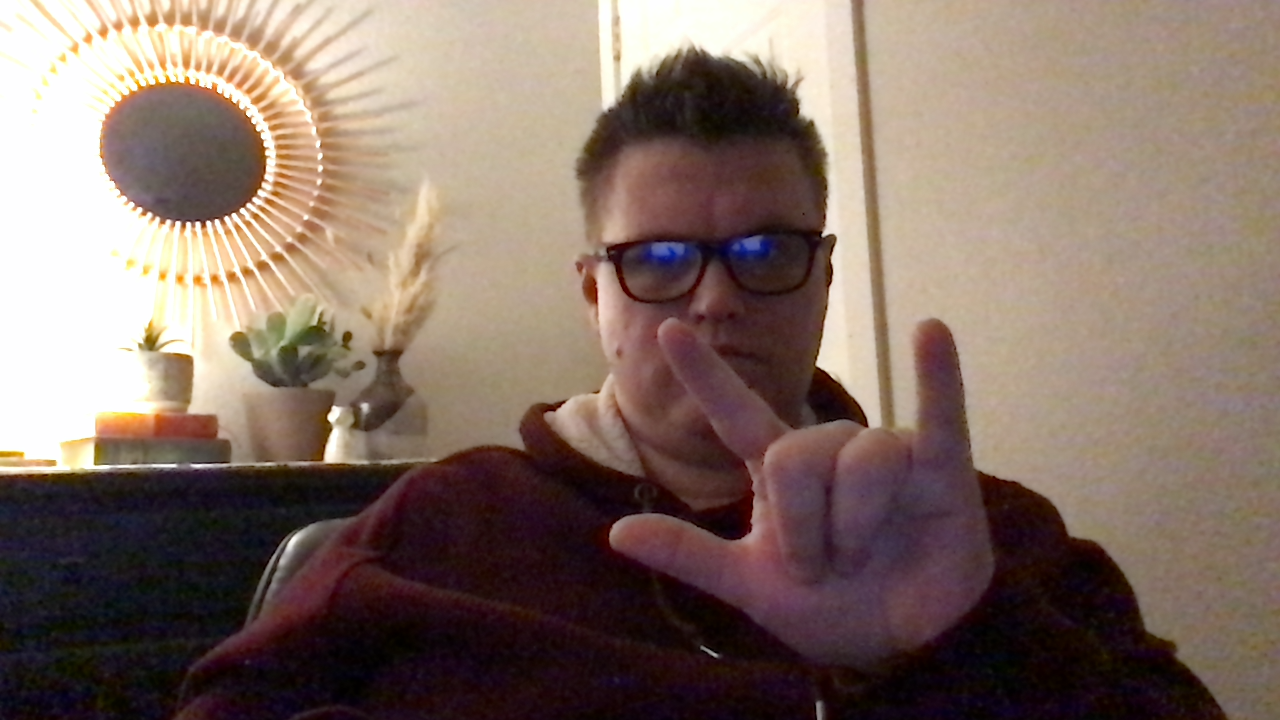iloveyou: (603, 309, 1000, 662)
